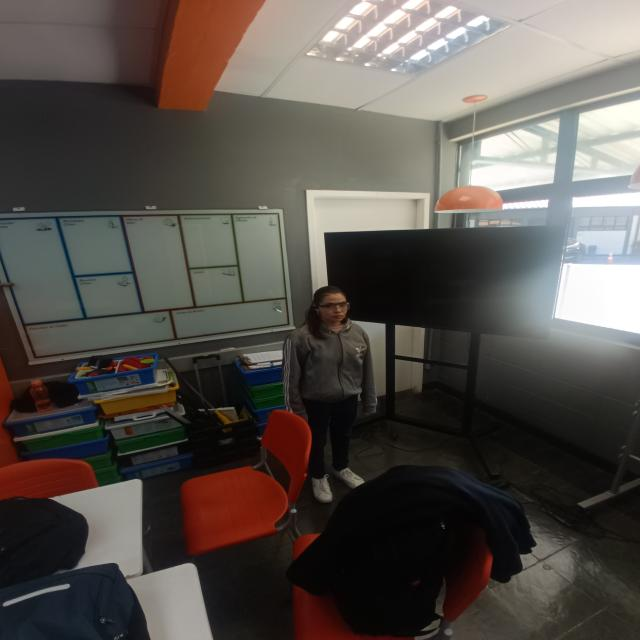oculos-epi: (316, 303, 350, 312)
